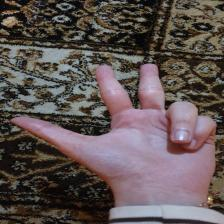three: (16, 61, 216, 202)
